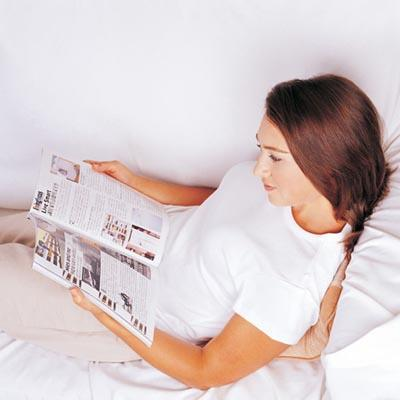person: (1, 75, 389, 391)
